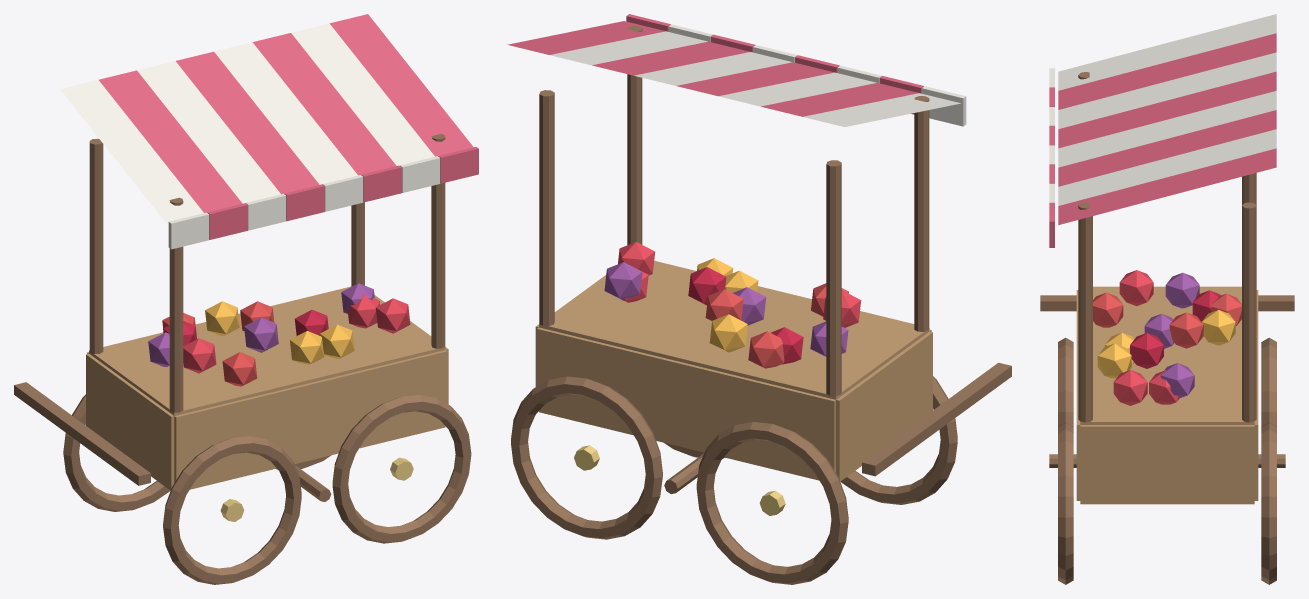
The model's file is HOB_FruitCart.fbx.
3 views of the same model, side by side, from view 1: azimuth 30°, elevation 25°; view 2: azimuth 150°, elevation 25°; view 3: azimuth 270°, elevation 25° (orthographic). The views are drawn at different scales.
Visible parts, largest first — view 1: HOB_FruitCart; view 2: HOB_FruitCart; view 3: HOB_FruitCart.
Boxes of the visible parts, x1,y1,x2,y2 form: HOB_FruitCart: (14, 14, 478, 584); HOB_FruitCart: (507, 14, 1011, 584); HOB_FruitCart: (1040, 14, 1294, 584).
Size of the model in its own units: 224 by 270 by 140.
